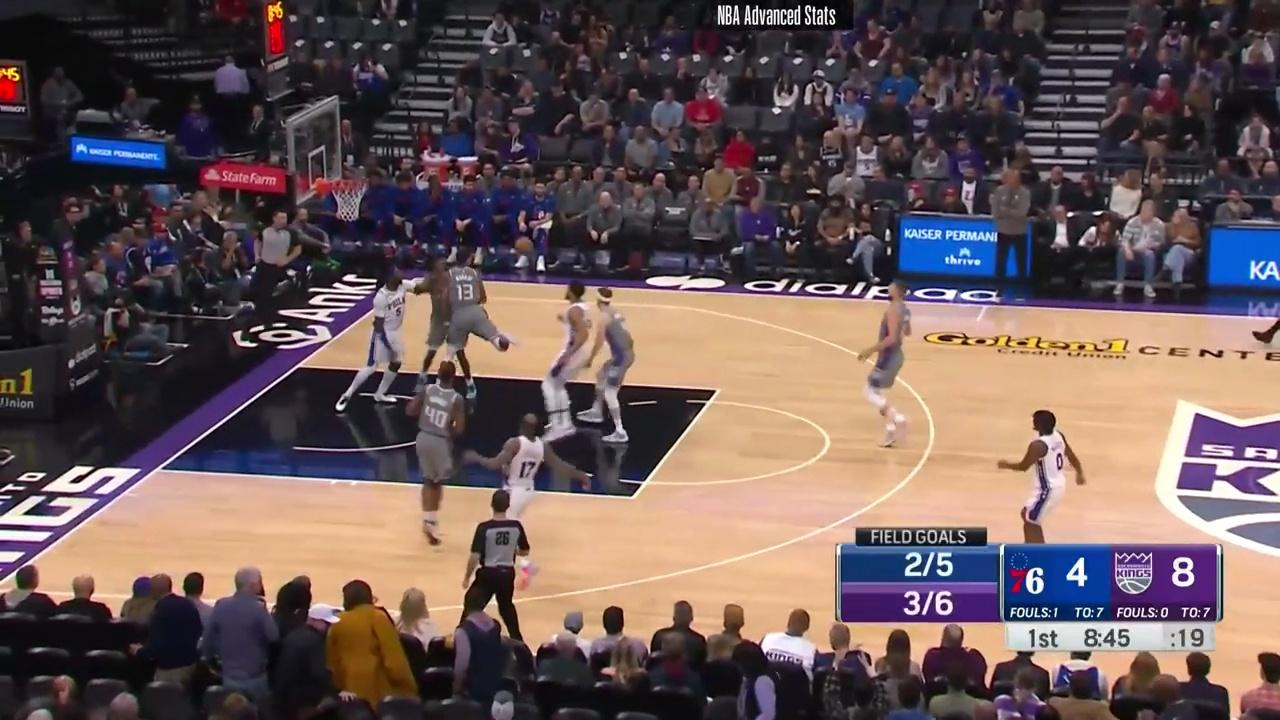Backboard: (290, 94, 349, 210)
Ball: (515, 236, 533, 256)
Basket: (327, 174, 367, 221)
Person: (407, 361, 478, 545), (425, 248, 513, 382), (1003, 406, 1084, 542), (855, 277, 918, 450), (346, 268, 416, 414), (545, 278, 598, 436), (589, 284, 638, 442), (410, 250, 469, 381), (482, 409, 549, 524)
Referee: (465, 490, 538, 638), (249, 208, 308, 327)
Shot Clock: (254, 0, 301, 89), (1, 61, 42, 133)
